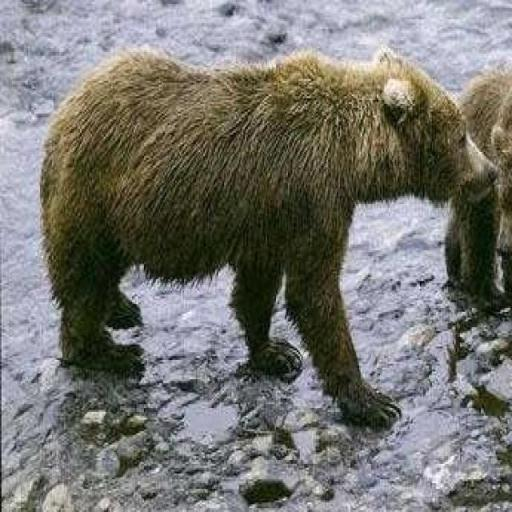Bear: (37, 42, 499, 429)
Rhino: (444, 60, 510, 312)
